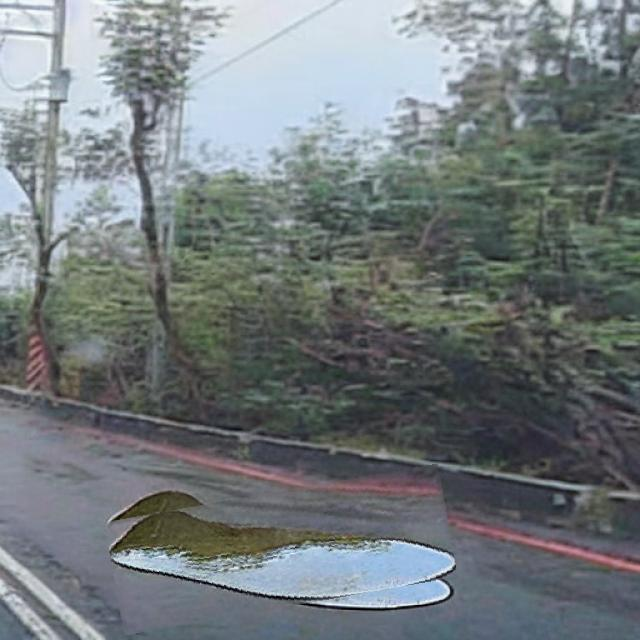puddle: (108, 479, 455, 622)
